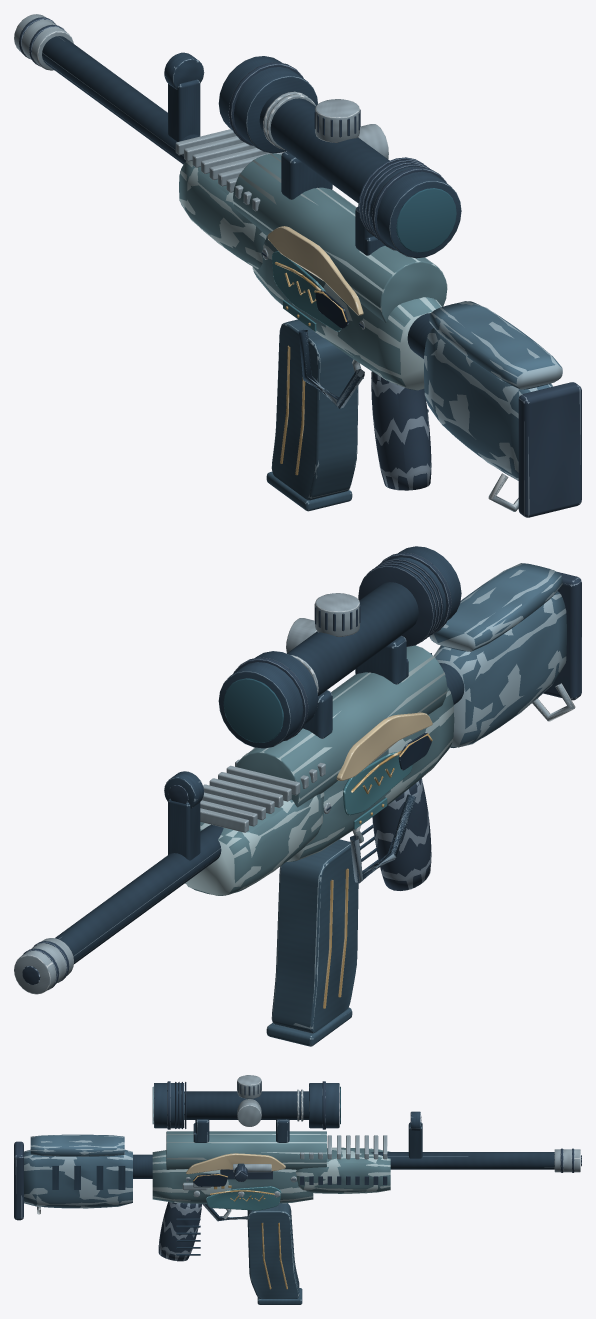
The model's file is anime-scout.glb.
The picture shows the model from 3 angles, top to bottom: view 1: azimuth 30°, elevation 25°; view 2: azimuth 150°, elevation 25°; view 3: azimuth 270°, elevation 25°; orthographic projection. The views are drawn at different scales.
Visible parts, largest first — view 1: weapon_Parkerized steel, weapon_Weapon finish / Olive rifle finish, weapon_Polymer, magazine_Magazine satin alloy, weapon_Weapon finish / Polymer, World paint, weapon_Machined edges, World hardware, weapon_Coated scope glass, weapon_Weapon finish / Ivory enamel, weapon_Inset blue ceramic, magazine_Etched brass detail (+1 smaller); view 2: weapon_Parkerized steel, weapon_Weapon finish / Olive rifle finish, magazine_Magazine satin alloy, weapon_Weapon finish / Polymer, weapon_Polymer, World paint, weapon_Machined edges, World hardware, weapon_Coated scope glass, weapon_Weapon finish / Ivory enamel, weapon_Inset blue ceramic, magazine_Etched brass detail (+1 smaller); view 3: weapon_Parkerized steel, weapon_Weapon finish / Olive rifle finish, weapon_Weapon finish / Polymer, World paint, magazine_Magazine satin alloy, weapon_Polymer, weapon_Machined edges, World hardware, weapon_Inset blue ceramic, weapon_Weapon finish / Ivory enamel, weapon_Recessed graphite mechanism, magazine_Etched brass detail.
Part boxes in pixels (x1,y1,x2,y2): weapon_Parkerized steel: (42, 36, 461, 412); weapon_Weapon finish / Olive rifle finish: (179, 153, 447, 390); weapon_Polymer: (19, 17, 581, 517); magazine_Magazine satin alloy: (266, 319, 358, 511); weapon_Weapon finish / Polymer: (424, 301, 562, 480); World paint: (179, 153, 562, 480); weapon_Machined edges: (14, 14, 518, 511); World hardware: (14, 14, 580, 517); weapon_Coated scope glass: (396, 188, 456, 252); weapon_Weapon finish / Ivory enamel: (267, 226, 363, 315); weapon_Inset blue ceramic: (272, 251, 341, 331); magazine_Etched brass detail: (280, 345, 305, 475); weapon_Parkerized steel: (55, 546, 464, 963); weapon_Weapon finish / Olive rifle finish: (185, 645, 454, 895); magazine_Magazine satin alloy: (266, 839, 358, 1046); weapon_Weapon finish / Polymer: (429, 563, 566, 747); weapon_Polymer: (22, 552, 581, 989); World paint: (186, 563, 566, 895); weapon_Machined edges: (14, 593, 574, 994); World hardware: (14, 546, 581, 1046); weapon_Coated scope glass: (223, 678, 283, 742); weapon_Weapon finish / Ivory enamel: (336, 712, 432, 780); weapon_Inset blue ceramic: (343, 752, 412, 829); magazine_Etched brass detail: (323, 868, 348, 1008); weapon_Parkerized steel: (52, 1083, 554, 1255); weapon_Weapon finish / Olive rifle finish: (152, 1131, 390, 1203); weapon_Weapon finish / Polymer: (24, 1134, 132, 1208); World paint: (24, 1131, 390, 1208); magazine_Magazine satin alloy: (247, 1203, 302, 1304); weapon_Polymer: (14, 1081, 581, 1261); weapon_Machined edges: (37, 1075, 580, 1210); World hardware: (14, 1075, 581, 1304); weapon_Inset blue ceramic: (206, 1186, 281, 1210); weapon_Weapon finish / Ivory enamel: (186, 1153, 285, 1174); weapon_Recessed graphite mechanism: (193, 1173, 227, 1186); magazine_Etched brass detail: (261, 1223, 287, 1289).
Bounding box in the file's own units: 0.1331 × 0.437 × 1.03.
13 materials, 10 textured.
